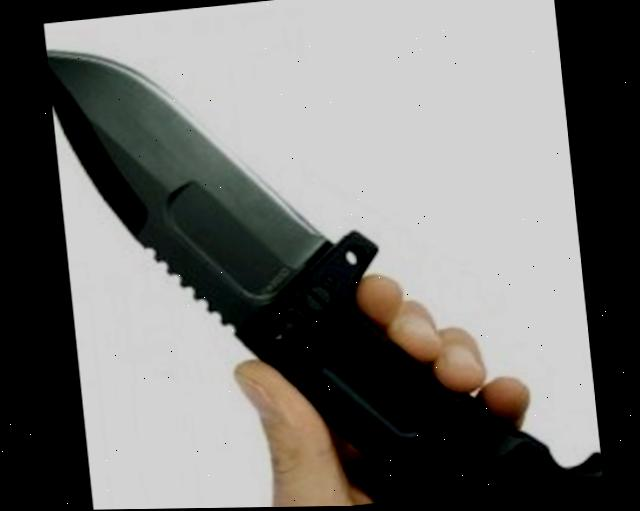pocket-knife: (42, 0, 602, 511)
